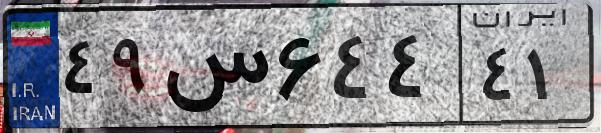1: (525, 38, 570, 115)
4: (385, 28, 445, 110), (330, 28, 385, 110), (57, 26, 110, 100), (475, 38, 525, 113)
6: (270, 28, 330, 110)
9: (110, 28, 158, 98)
س: (158, 20, 270, 120)
